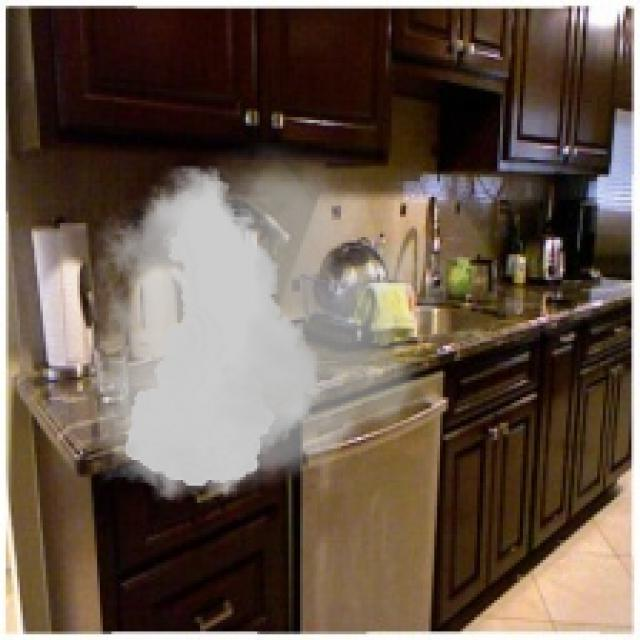smoke: (57, 143, 463, 511)
